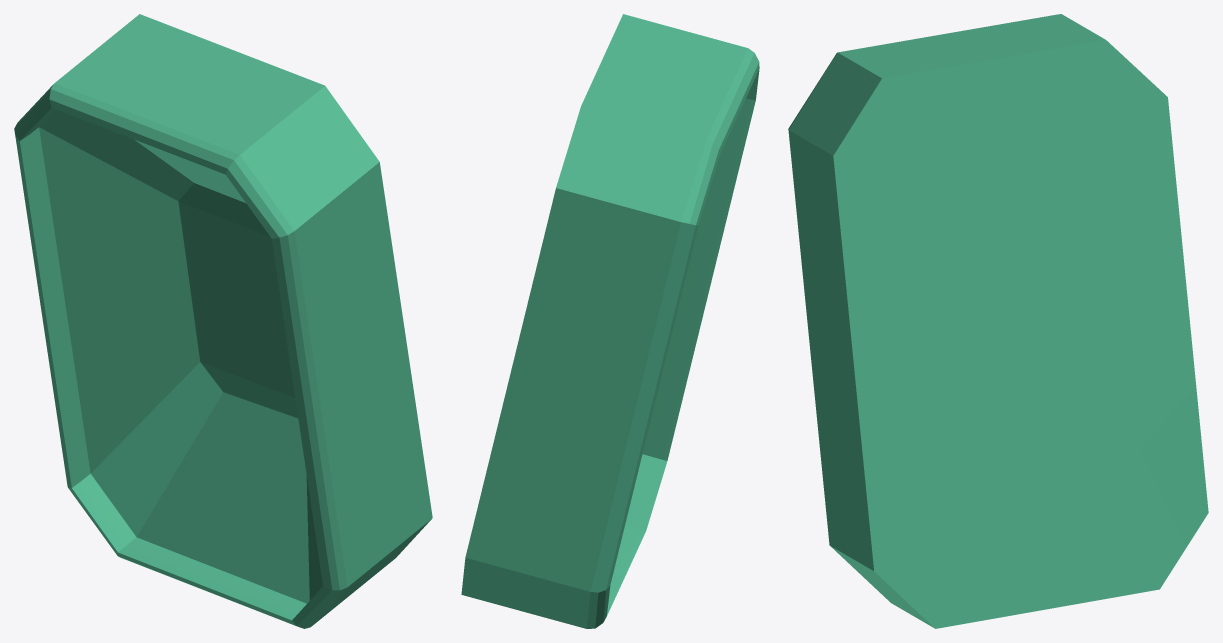
File: TL5_8shapes_Emerald_Classic_Metal.001 3.glb
The picture shows the model from 3 angles, left to right: view 1: azimuth 30°, elevation 25°; view 2: azimuth 150°, elevation 25°; view 3: azimuth 270°, elevation 25°; orthographic projection. The views are drawn at different scales.
Parts seen in each view (by area): view 1: TL5_8shapes_Emerald_Classic_Metal.001; view 2: TL5_8shapes_Emerald_Classic_Metal.001; view 3: TL5_8shapes_Emerald_Classic_Metal.001.
Boxes of the visible parts, <box> form: TL5_8shapes_Emerald_Classic_Metal.001: <box>14,14,432,628</box>; TL5_8shapes_Emerald_Classic_Metal.001: <box>461,14,759,628</box>; TL5_8shapes_Emerald_Classic_Metal.001: <box>788,14,1208,628</box>.
Size of the model in its own units: 0.3688 by 0.6507 by 0.4642.
